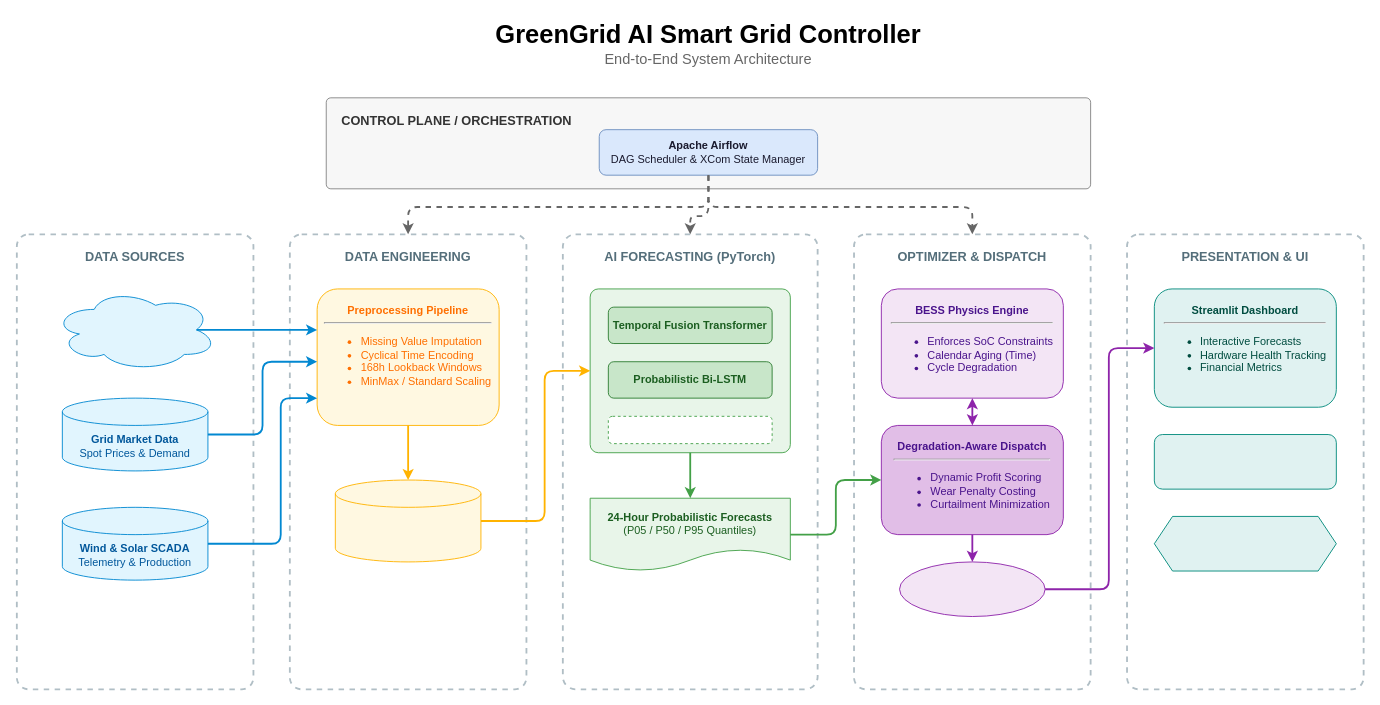
This 1380x705 diagram has some shape labels left out. Each missing label, with the centre of its shape:
Docker / Compose Containerized Deployment: point (1244, 543)
Feature Store (Parquet Datasets): point (407, 520)
GreenGrid CLI train | simulate | dashboard: point (1244, 461)
Hourly Actions (Charge/Discharge/Sell): point (972, 589)
Moving Average Baseline: point (689, 429)
Open-Meteo API (Historical Weather): point (134, 329)
